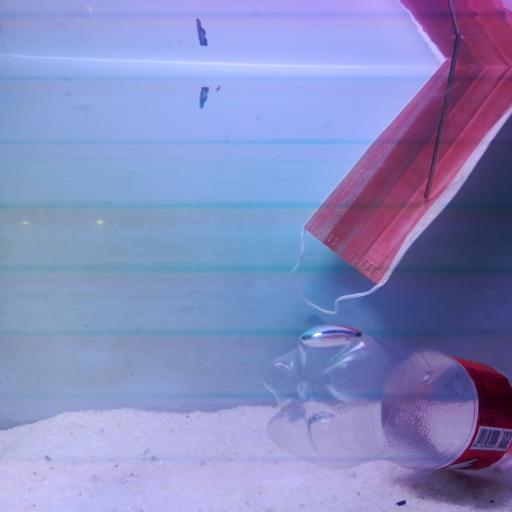mask: (294, 63, 512, 312)
plastic_bottle: (266, 324, 512, 478)
